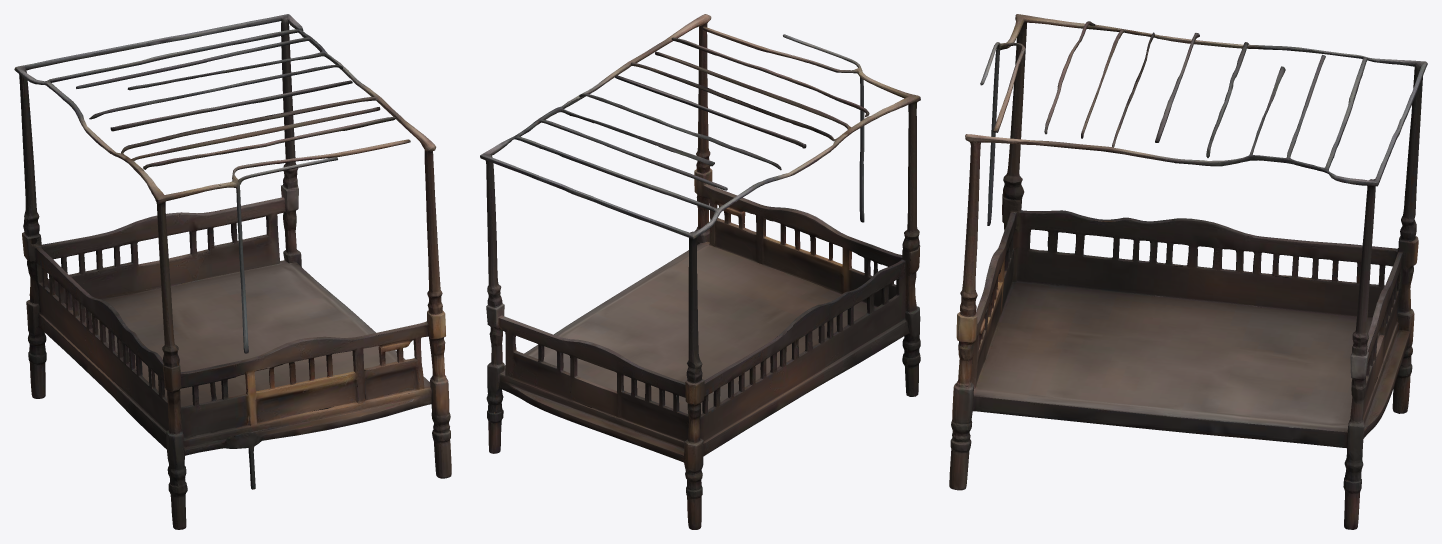
The model's file is wooden_canopy_bed_frame_000.glb.
3 renders of one model, left to right at view 1: azimuth 30°, elevation 25°; view 2: azimuth 150°, elevation 25°; view 3: azimuth 270°, elevation 25°, orthographic. The views are drawn at different scales.
Visible parts, largest first — view 1: wooden_canopy_bed_frame_000.obj; view 2: wooden_canopy_bed_frame_000.obj; view 3: wooden_canopy_bed_frame_000.obj.
Part boxes in pixels (box(x1,y1,x2,y2)): wooden_canopy_bed_frame_000.obj: box(14, 14, 451, 529); wooden_canopy_bed_frame_000.obj: box(480, 14, 920, 529); wooden_canopy_bed_frame_000.obj: box(949, 14, 1427, 529).
Bounding box in the file's own units: 0.8817 × 0.9938 × 1.13.
1 material, 1 textured.
